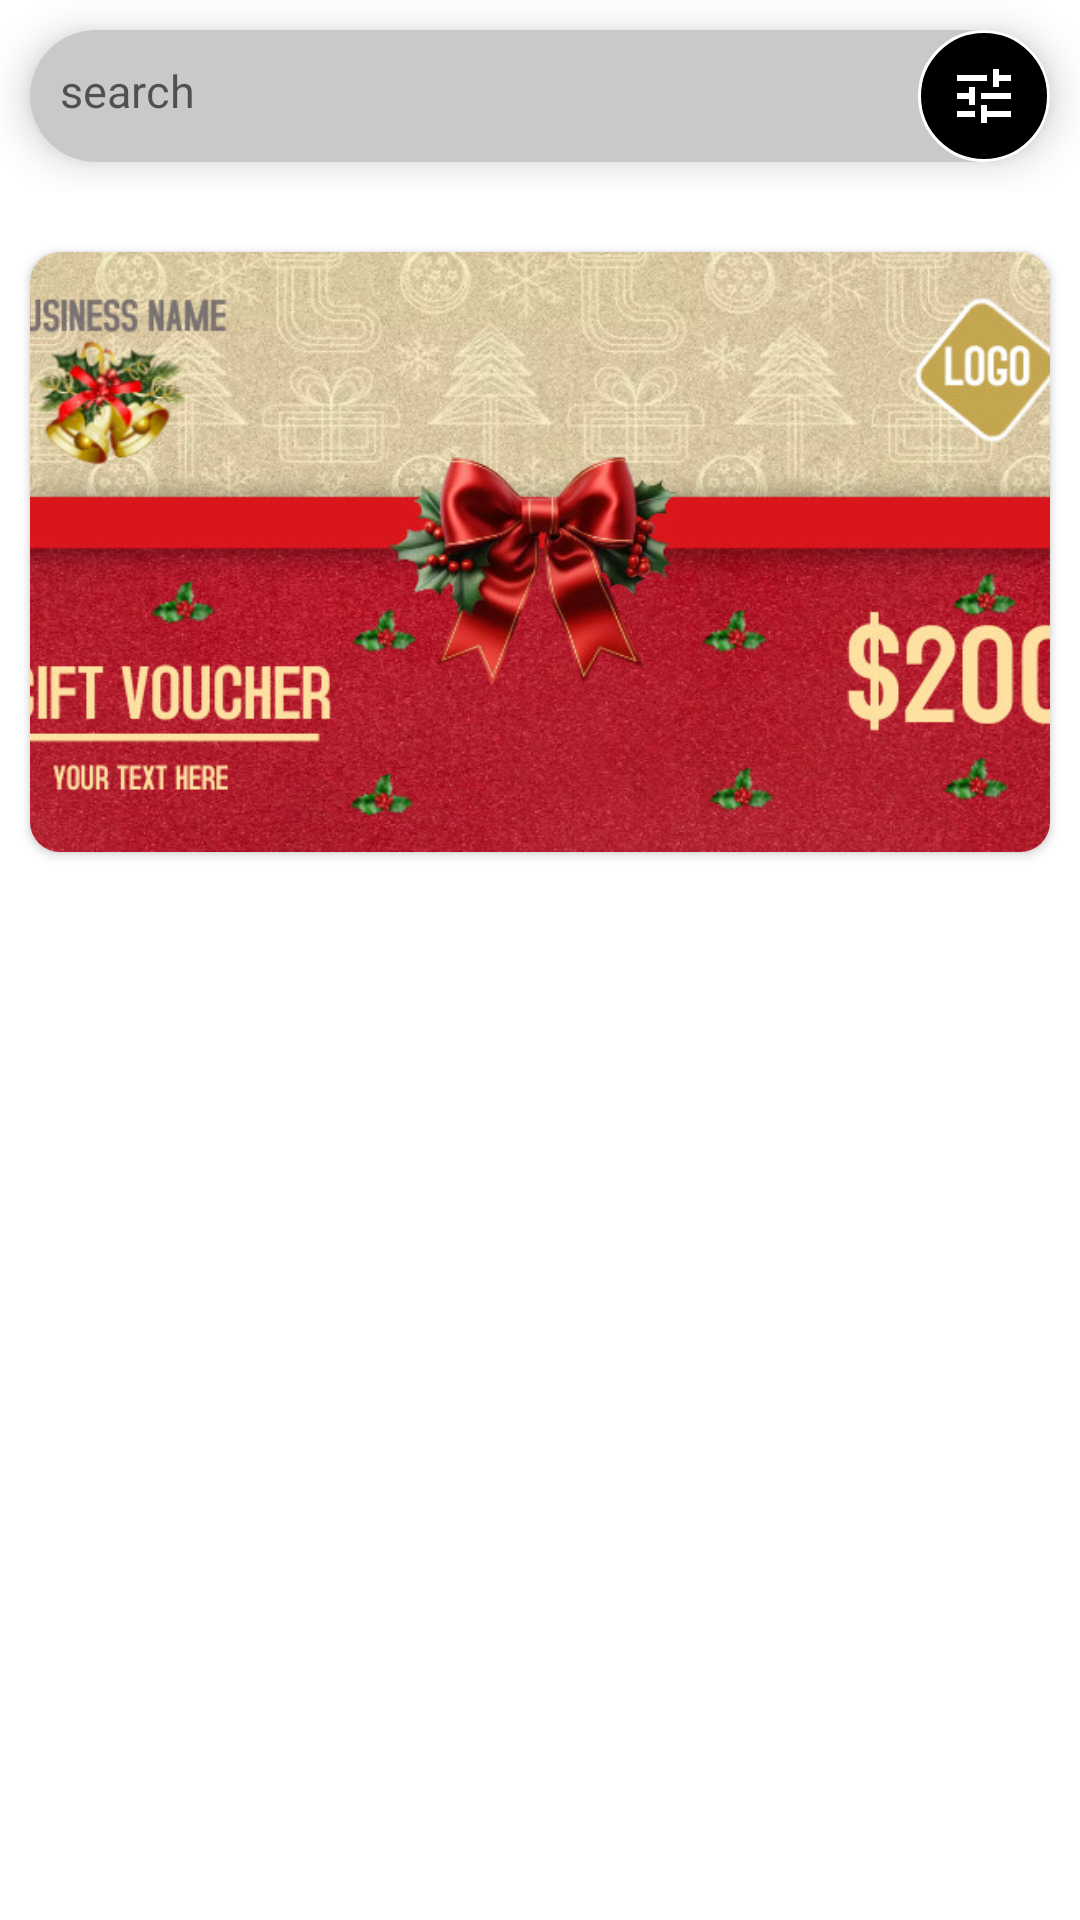

Icons on this 1080*1920 Android screen, each with the point to tap as [x,y]:
filter: [984,96]
